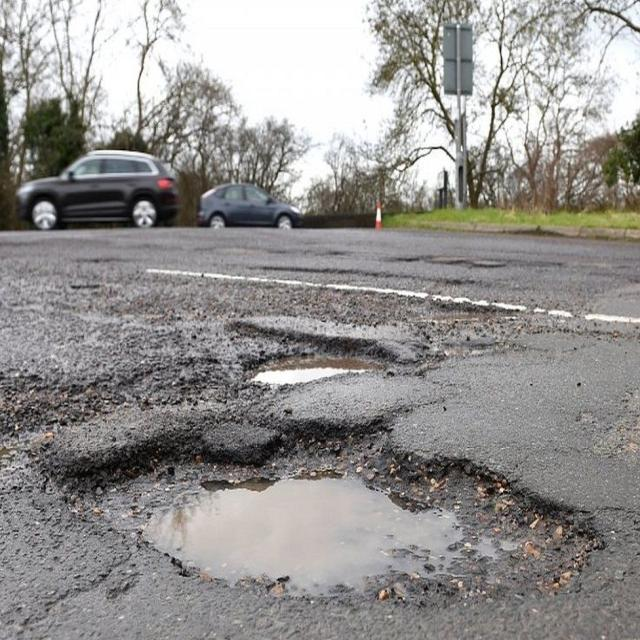Pothole: (64, 440, 603, 589), (250, 356, 392, 397)
